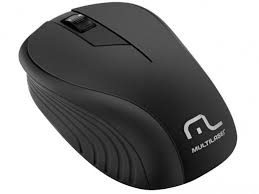mouse: (3, 3, 259, 194)
